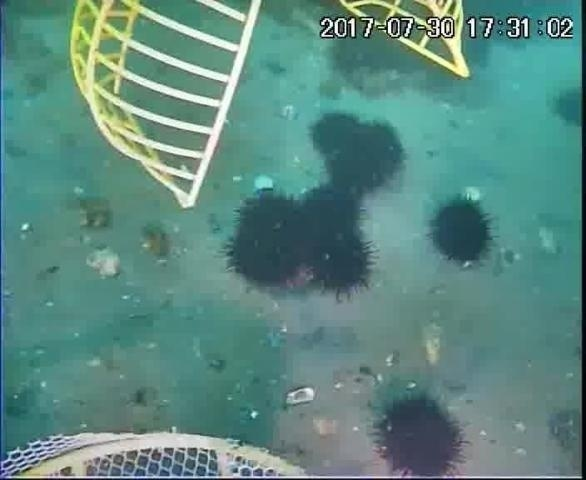echinus: (328, 2, 472, 86), (222, 190, 315, 291), (369, 390, 470, 476), (326, 16, 424, 80), (325, 121, 407, 196), (425, 193, 498, 269), (303, 227, 379, 300), (295, 184, 366, 245), (544, 400, 585, 474), (307, 110, 364, 161), (548, 82, 586, 134)
